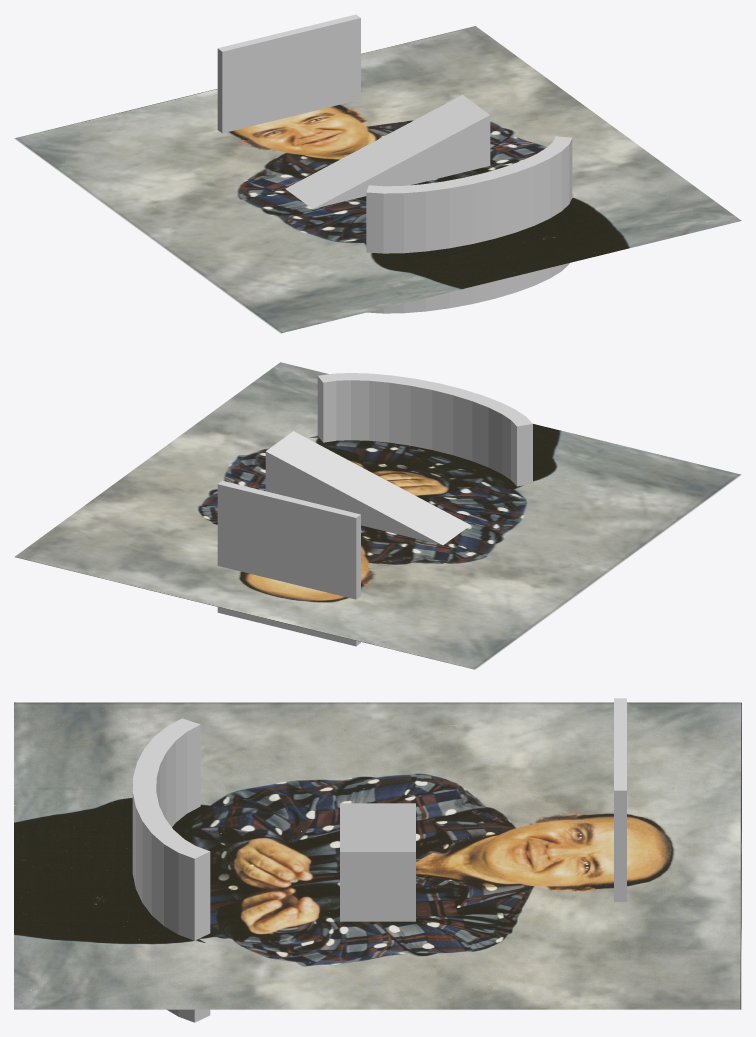
Rendered from TestZonefbx.fbx.
3 views of the same model, one above another, from view 1: azimuth 30°, elevation 25°; view 2: azimuth 150°, elevation 25°; view 3: azimuth 270°, elevation 25° (orthographic). The views are drawn at different scales.
Parts seen in each view (by area): view 1: Plane, Cylinder, Cube, Cube.001; view 2: Plane, Cylinder, Cube, Cube.001; view 3: Plane, Cylinder, Cube.001, Cube.
Boxes of the visible parts, x1,y1,x2,y2 form: Plane: (14,26,741,333); Cylinder: (366,136,572,313); Cube: (217,14,360,133); Cube.001: (285,95,490,208); Plane: (14,362,741,669); Cylinder: (317,373,532,486); Cube: (217,480,360,646); Cube.001: (265,431,470,545); Plane: (14,702,741,1009); Cylinder: (132,718,210,1022); Cube.001: (340,803,415,921); Cube: (614,698,626,901).
Size of the model in its own units: 4246 by 1245 by 4246.
